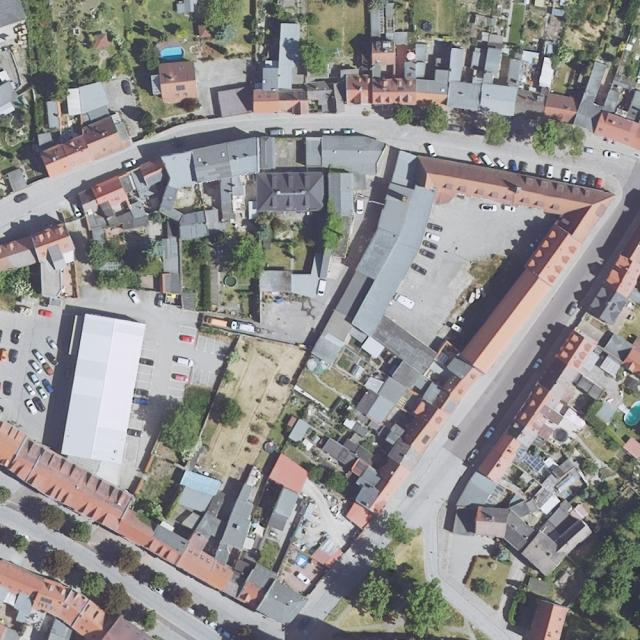PV: (524, 451, 546, 473)
ST: (39, 596, 52, 604), (517, 447, 526, 456), (176, 85, 185, 90)
